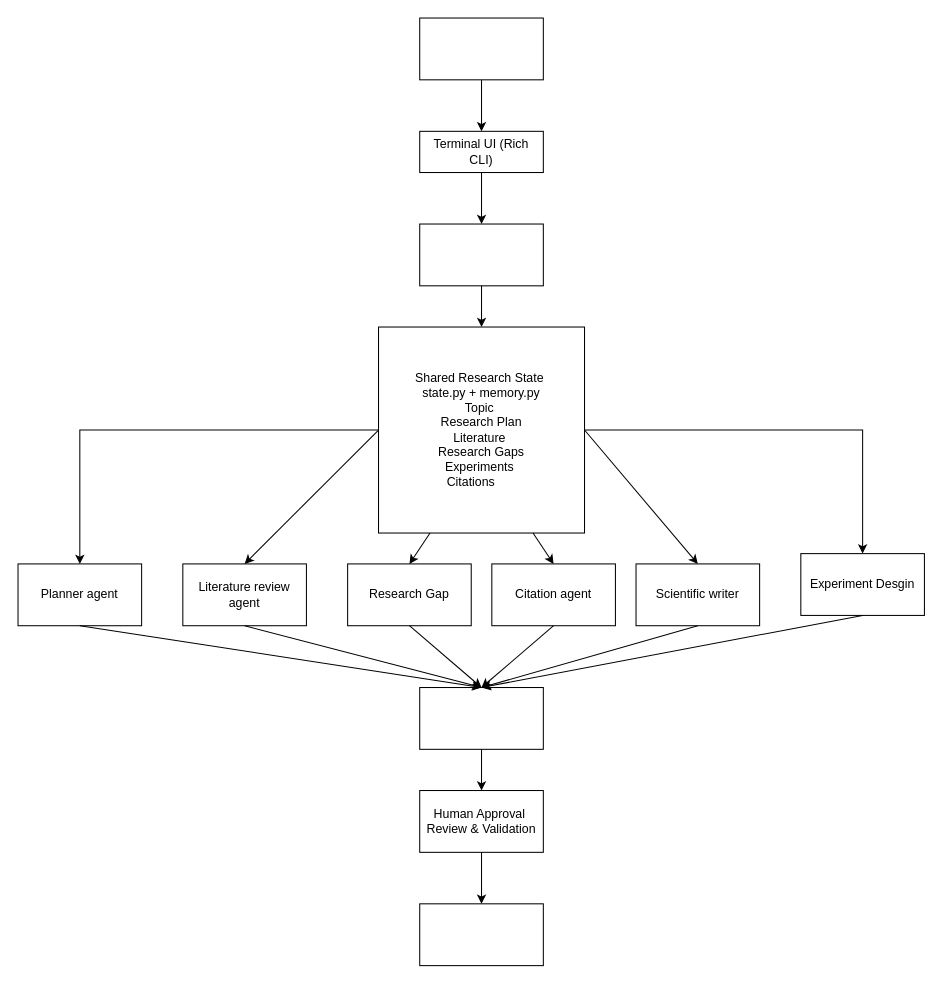
Some shapes in this 942 by 984 pixel diagram are drawn without their labels. The shapes that lost their labels are listed below. From the top down, each one's centre as x and y in pixels, then its label:
the point at 481,48: USER
the point at 481,254: Main controller (main.py)
the point at 481,717: GitHub Models API |GPT-4.1 LLM
the point at 481,934: Final Report final_report.md
